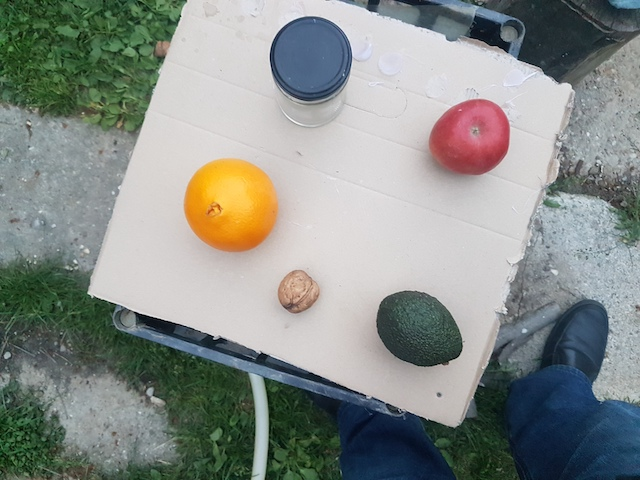apple: (428, 96, 509, 178)
avocado: (376, 289, 464, 371)
nut: (276, 270, 320, 313)
orange: (182, 155, 280, 254)
recipient: (269, 12, 353, 101)
